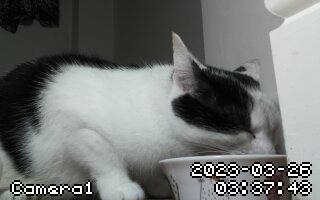bad: (7, 35, 278, 199)
